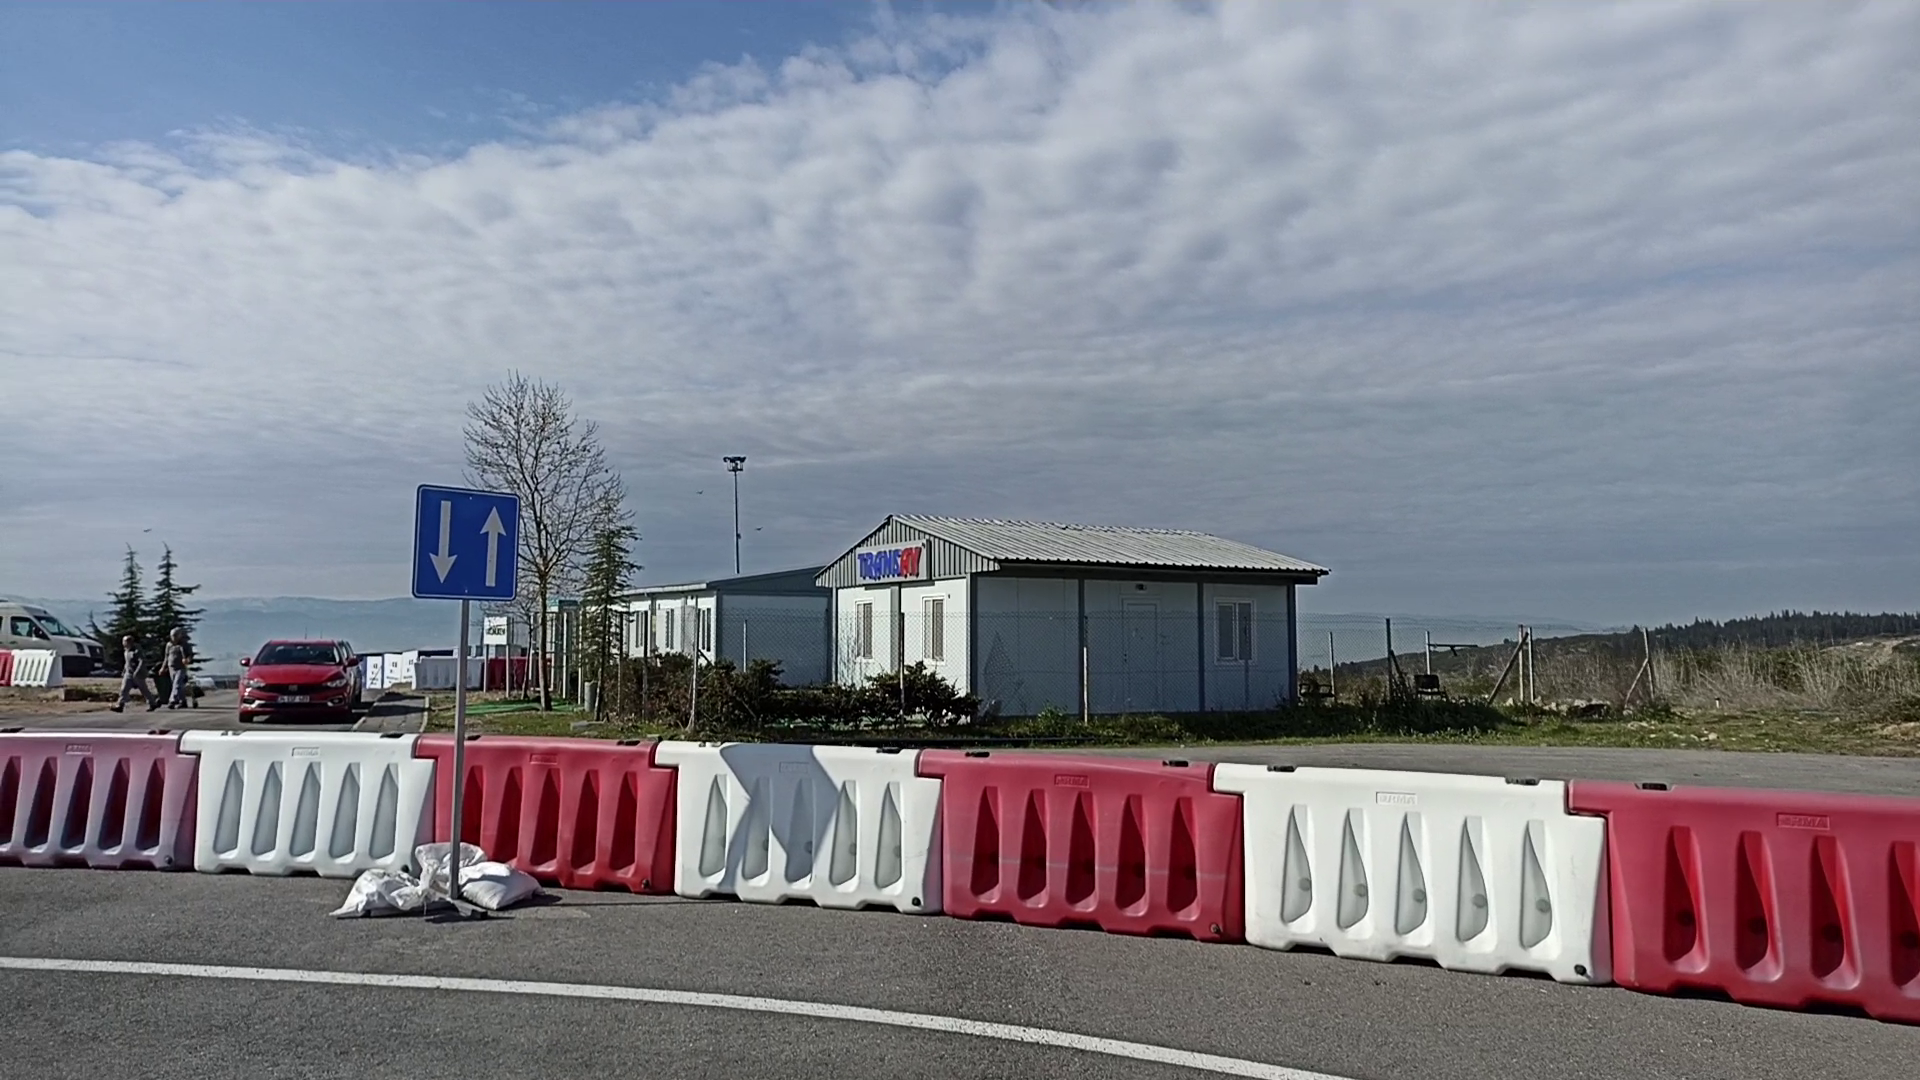oneway: (411, 484, 520, 603)
